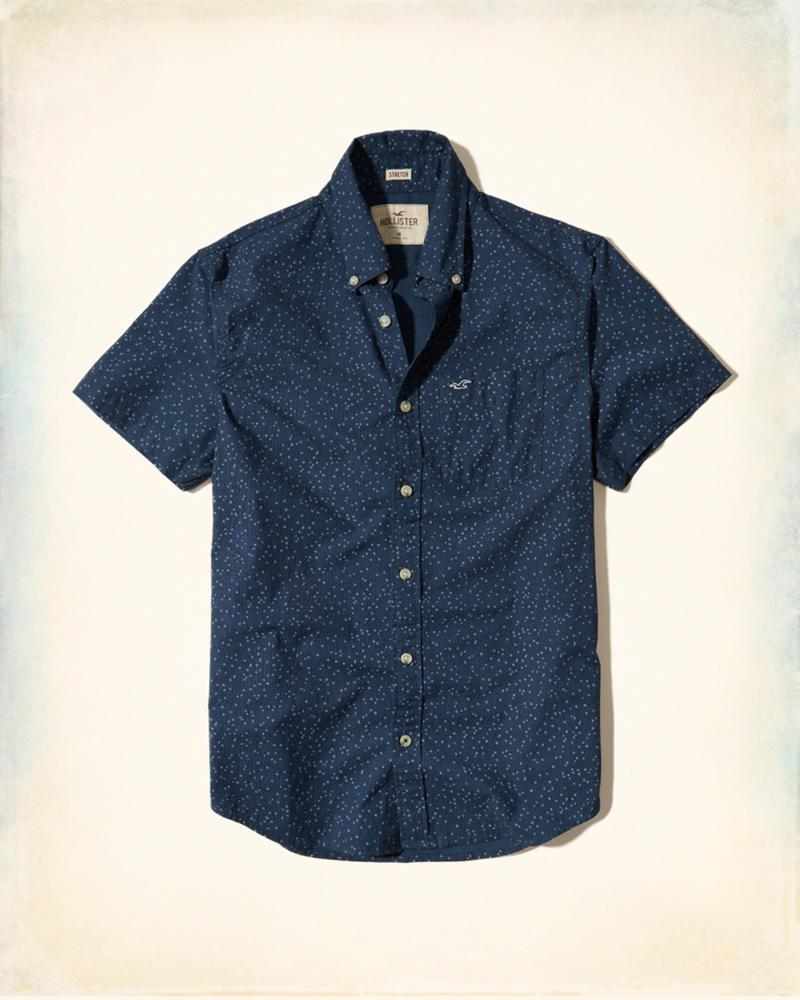teeshirt: (70, 125, 733, 851)
